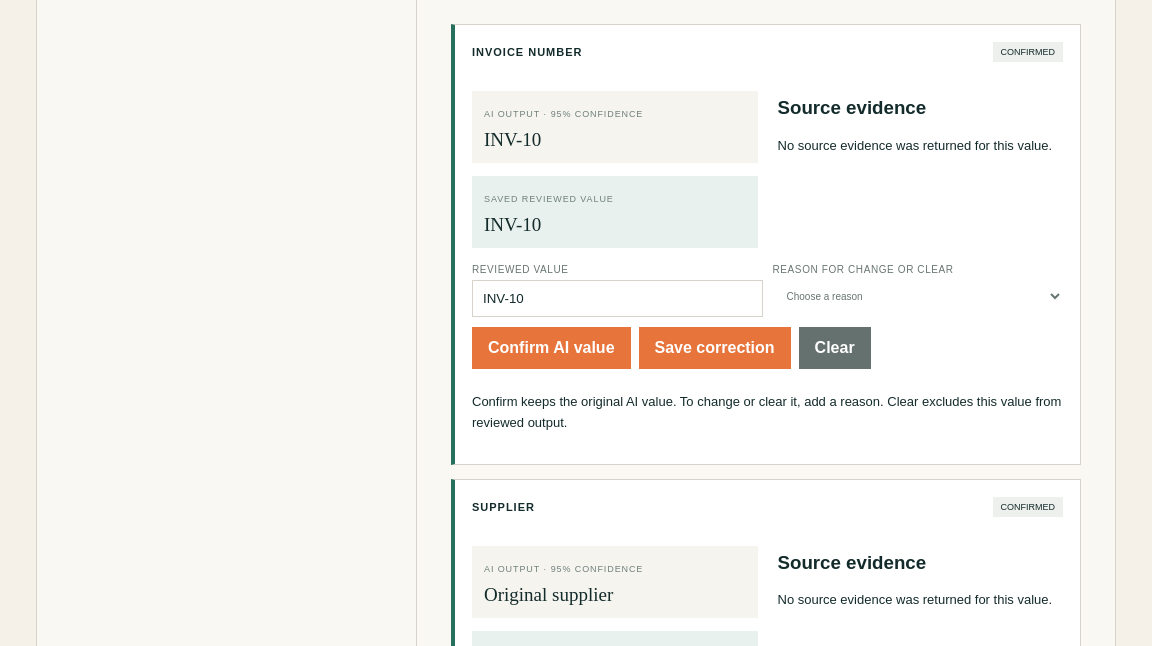
Test case: guided review and unsaved corrections › keeps a rejected correction through a stale reload and retries it with the refreshed ETag
The image size is (1152, 646).
(page scrolled)
Expected: the element "Invoice number" is shown, [451,24,1081,465]
Replace the text in the field labelled "Reviewed value" with "LOCAL-30" at (617, 299), box [472,280,762,317]
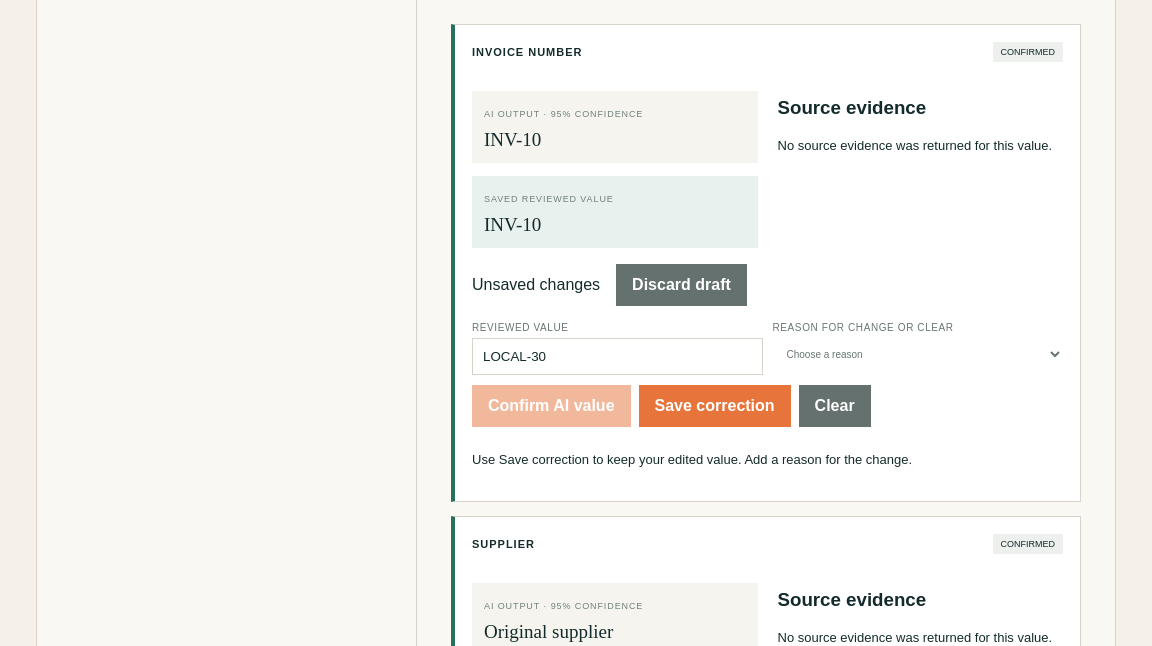
Select "Other — write my own" in the dropdown named "Reason for change or clear choices" at (918, 355), box [772,338,1063,371]
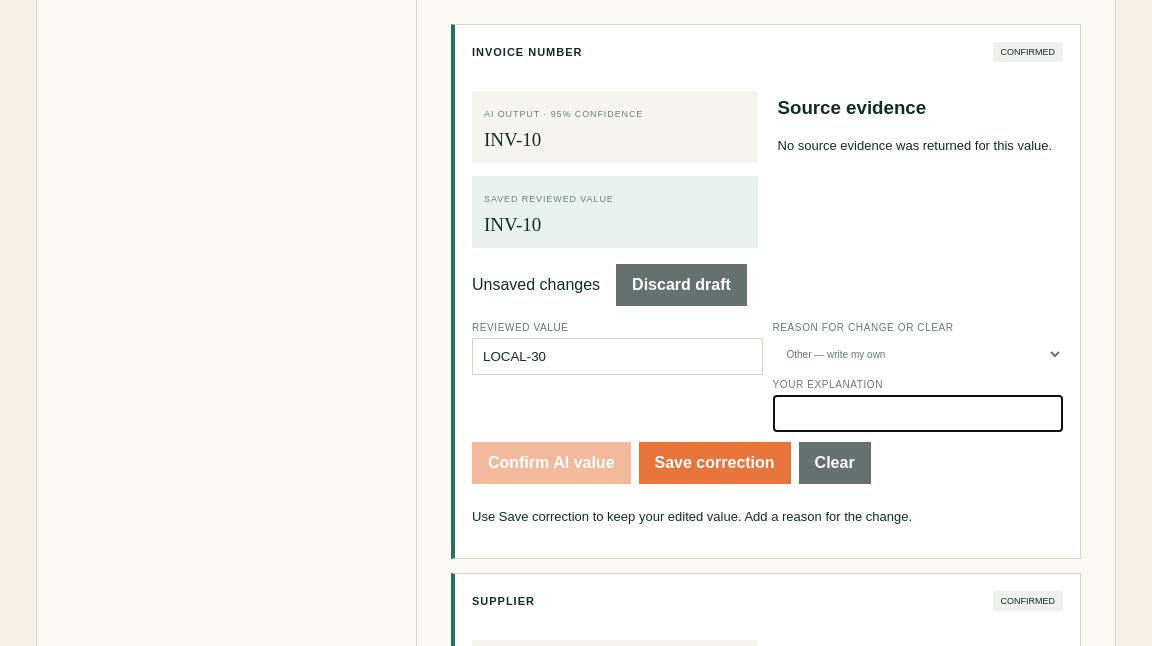
Type "Checked source locally" into the field named "Reason for change or clear: Your explanation" at (918, 414), box [772,395,1063,432]
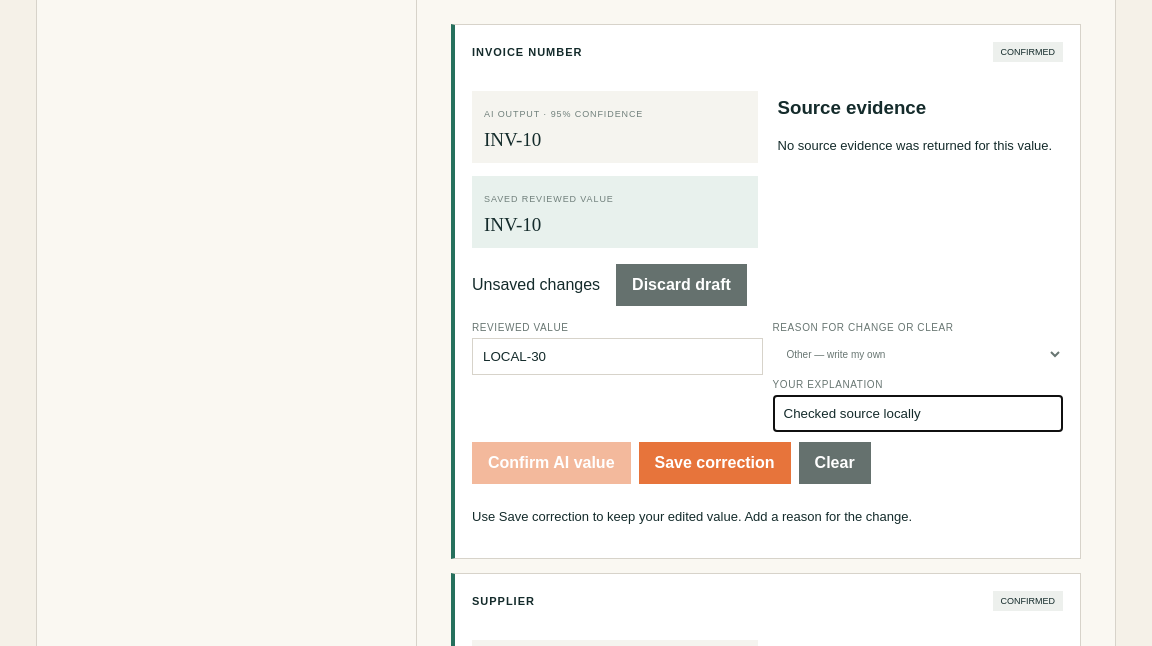
Click the button "Save correction" at (715, 463), box [638,442,791,484]
(page scrolled)
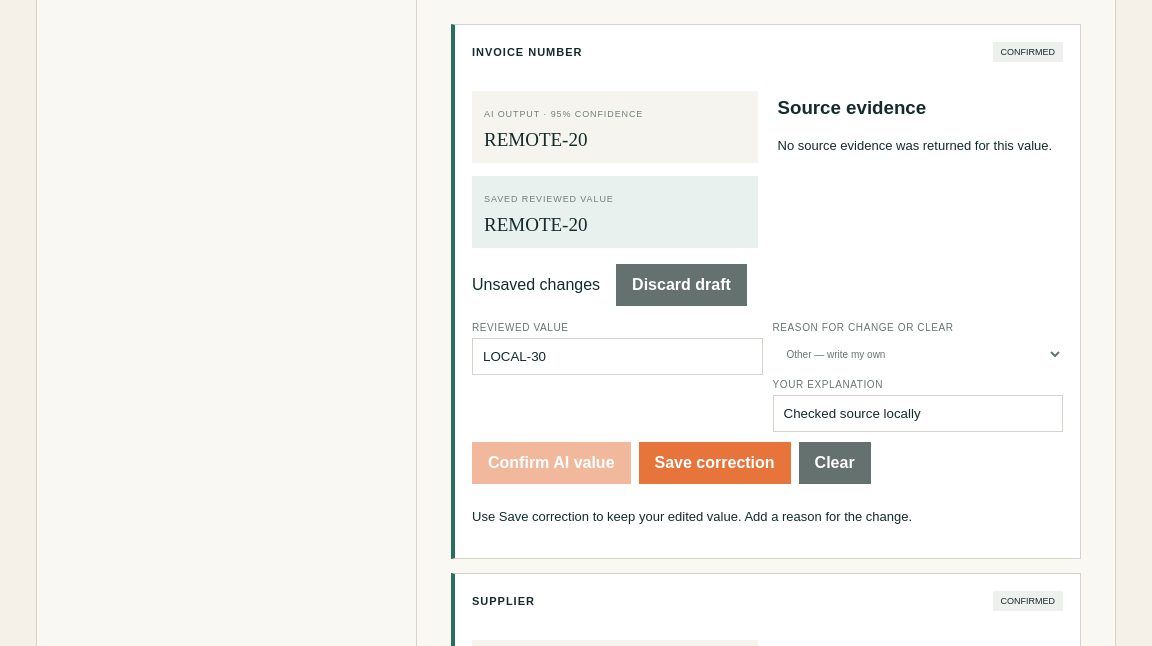
Click the button "Save correction" at (715, 463), box [638,442,791,484]
(page scrolled)
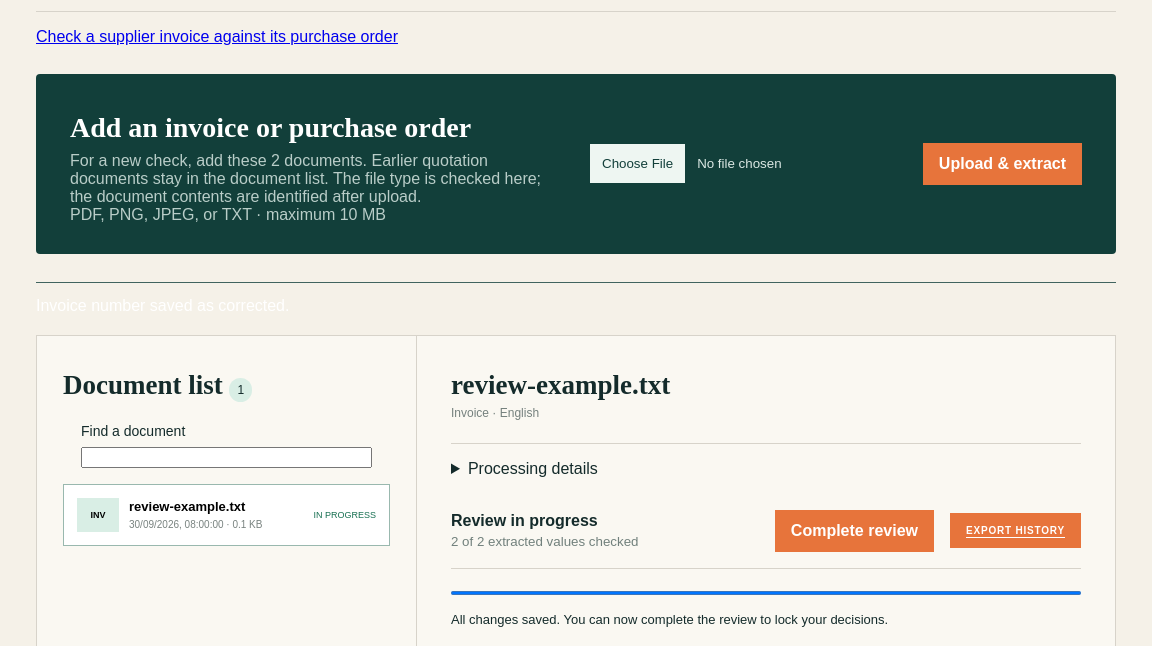
Expected: the text "Invoice number saved as corrected." is shown, [36,282,1116,315]
